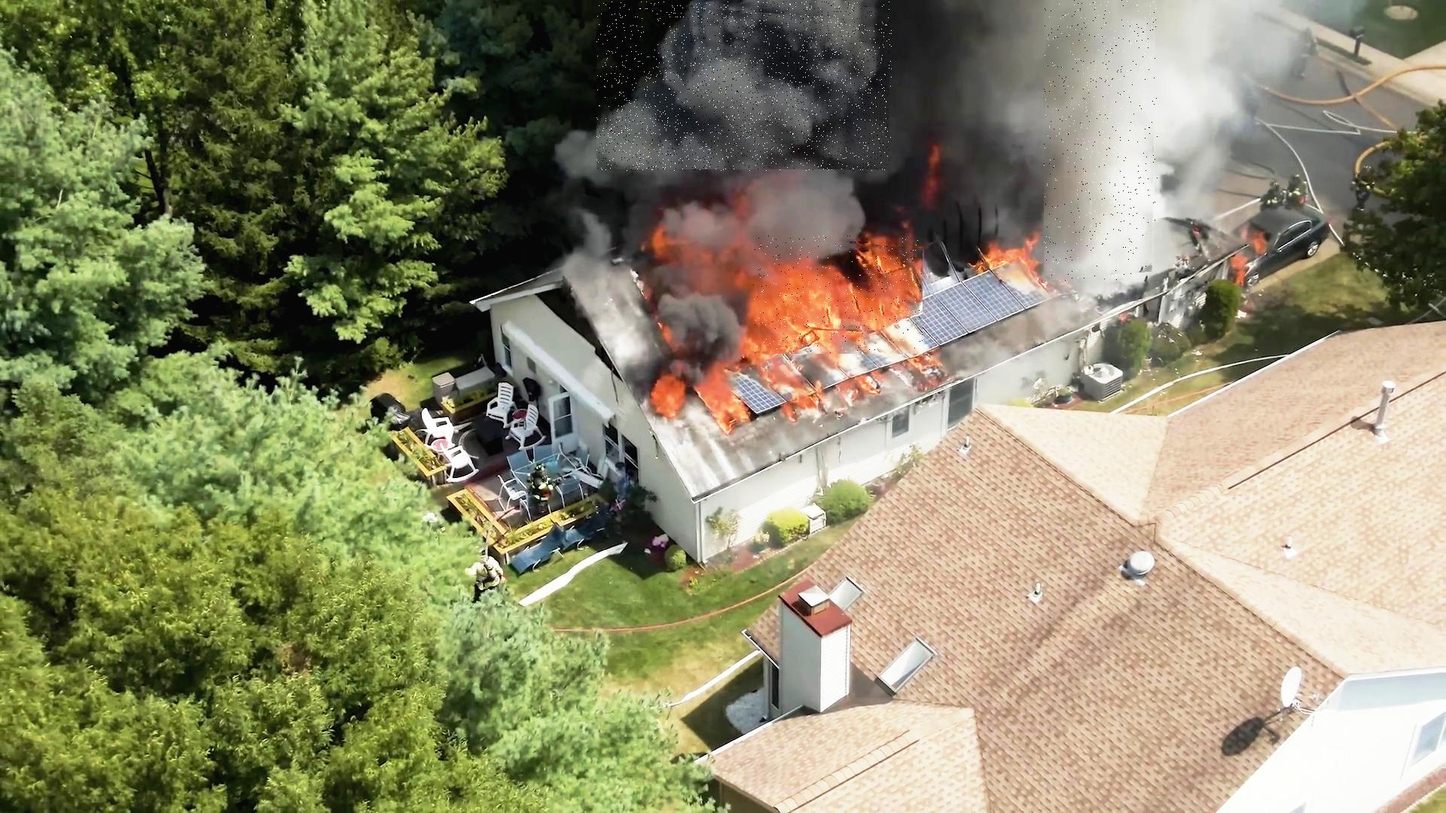fire: (753, 236, 923, 354)
smoke: (597, 2, 892, 172), (1045, 0, 1158, 282)
